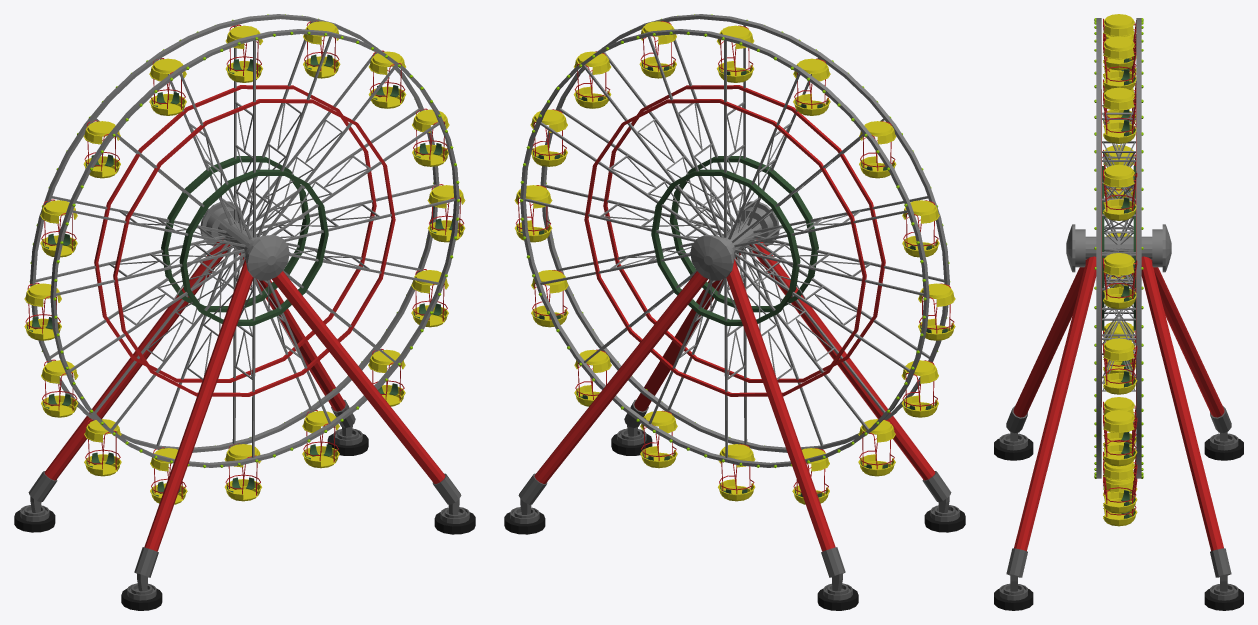
The model's file is SM_ferriswheel.fbx.
3 views of the same model, side by side, from view 1: azimuth 30°, elevation 25°; view 2: azimuth 150°, elevation 25°; view 3: azimuth 270°, elevation 25° (orthographic).
Parts seen in each view (by area): view 1: Cylinder109; view 2: Cylinder109; view 3: Cylinder109.
Boxes of the visible parts, bbox=[...] form: Cylinder109: bbox=[14, 14, 475, 610]; Cylinder109: bbox=[504, 14, 965, 610]; Cylinder109: bbox=[994, 14, 1243, 610].
Bounding box in the file's own units: 1086 × 1182 × 549.
